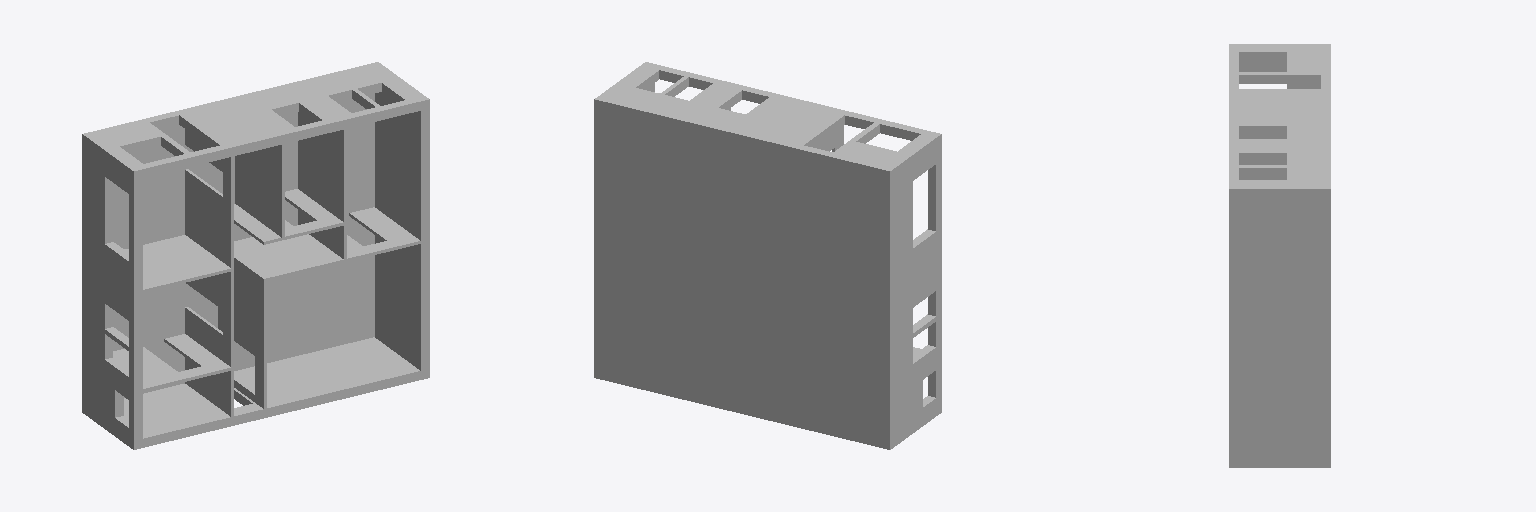
File: appartamento.obj
3 renders of one model, left to right at view 1: azimuth 30°, elevation 25°; view 2: azimuth 150°, elevation 25°; view 3: azimuth 270°, elevation 25°, orthographic.
Size of the model in its own units: 10 by 9 by 3.